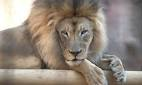lion: (1, 5, 127, 84)
